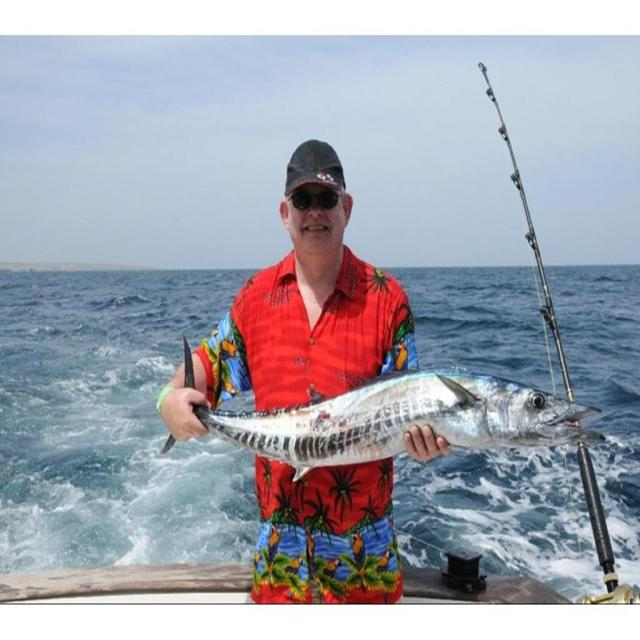Face: (274, 151, 358, 271)
